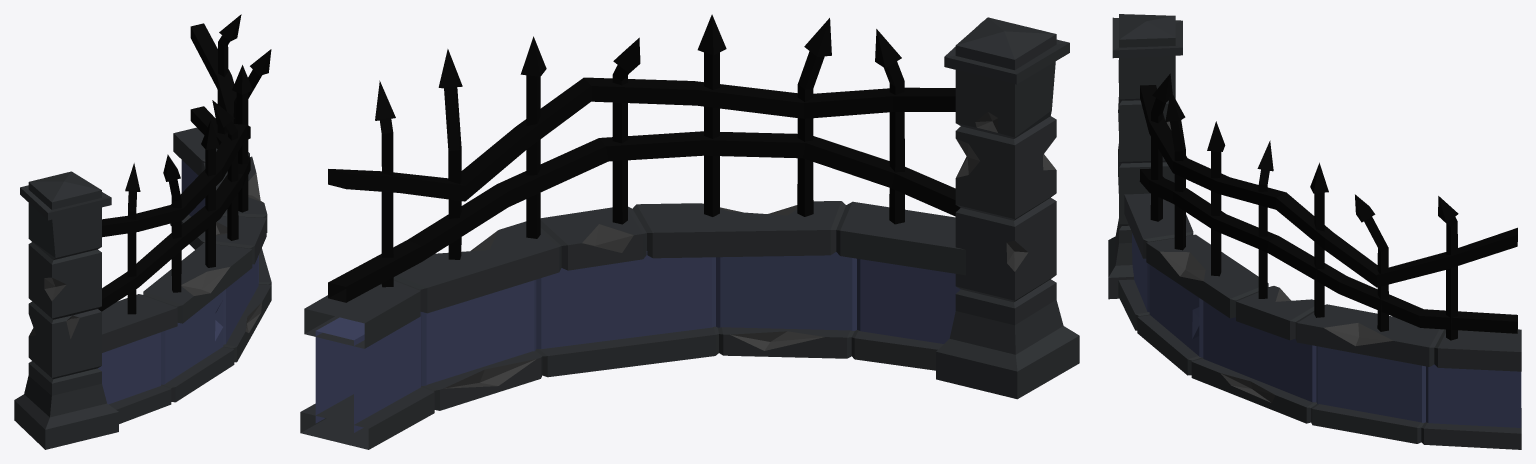
The model's file is GraveyardCorner90Wall (2).fbx.
3 views of the same model, side by side, from view 1: azimuth 30°, elevation 25°; view 2: azimuth 150°, elevation 25°; view 3: azimuth 270°, elevation 25° (orthographic). The views are drawn at different scales.
Visible parts, largest first — view 1: Cube.001; view 2: Cube.001; view 3: Cube.001.
Boxes of the visible parts, left/top/right/bottom form: Cube.001: left=14, top=14, right=271, bottom=449; Cube.001: left=300, top=14, right=1079, bottom=449; Cube.001: left=1108, top=14, right=1521, bottom=449.
Bounding box in the file's own units: 231 × 146 × 211.
